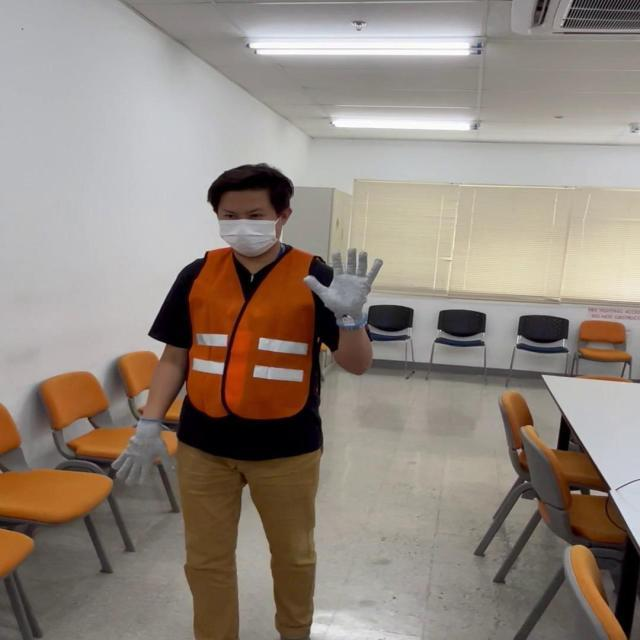gloved_hand: (311, 245, 384, 324), (111, 416, 181, 486)
